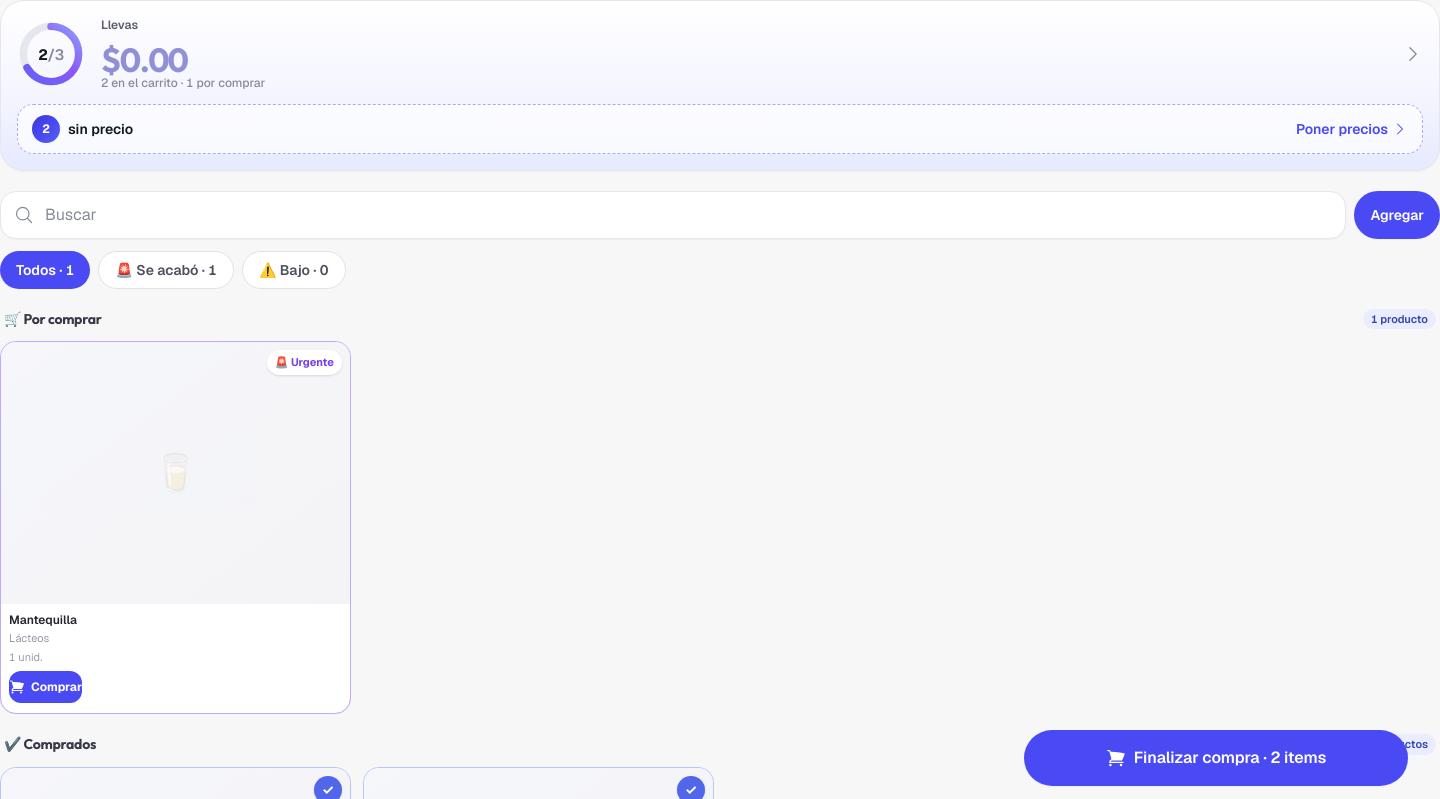
Test: SupermarketView · lo que no estaba en el súper › «no estaba en el súper» lo aparta: al pie, no perdido
The width and height of the screenshot is (1440, 799).
Click the text "Mantequilla" at (46, 620), box [9,612,82,628]
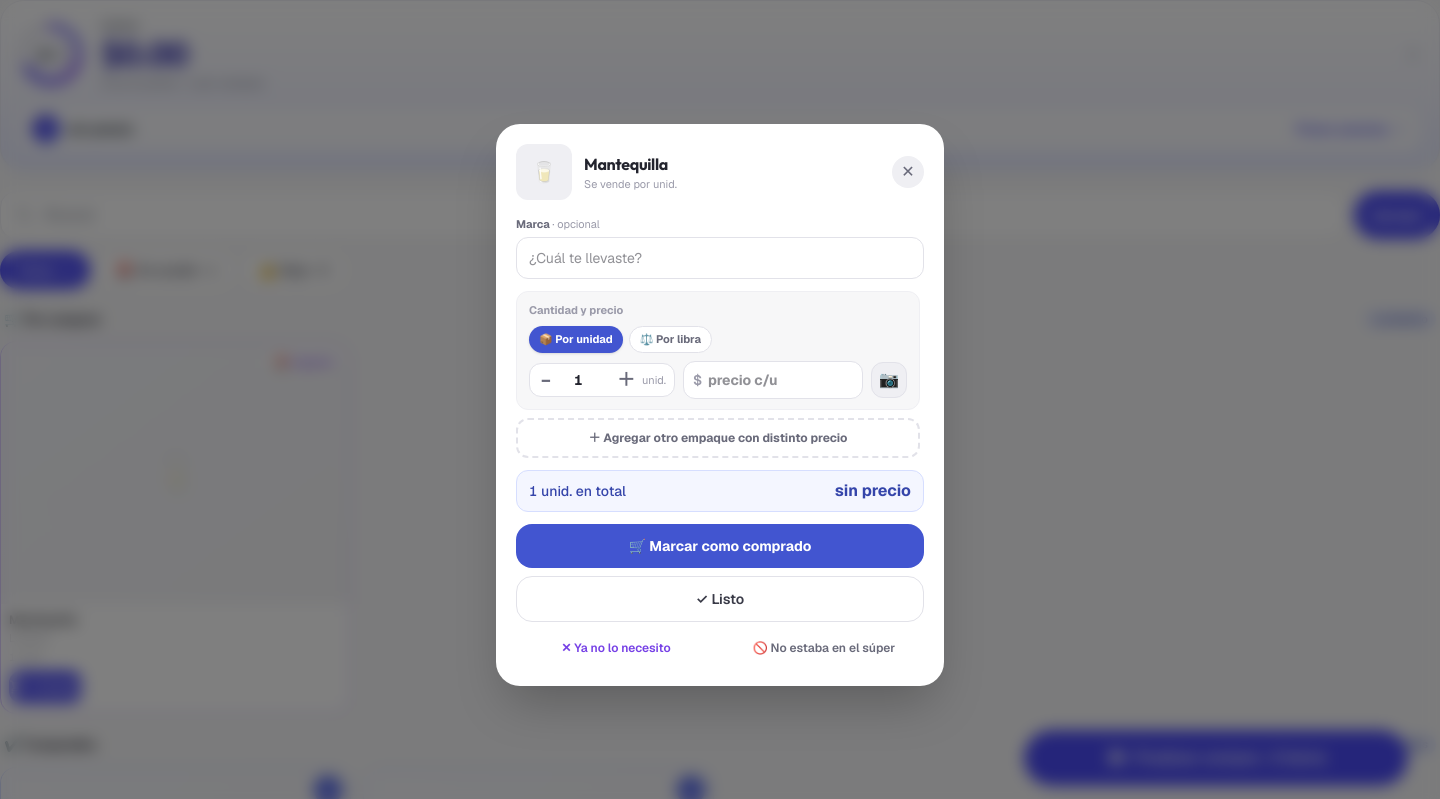
Click the button "🚫 No estaba en el súper" at (824, 648), box [724,630,924,666]
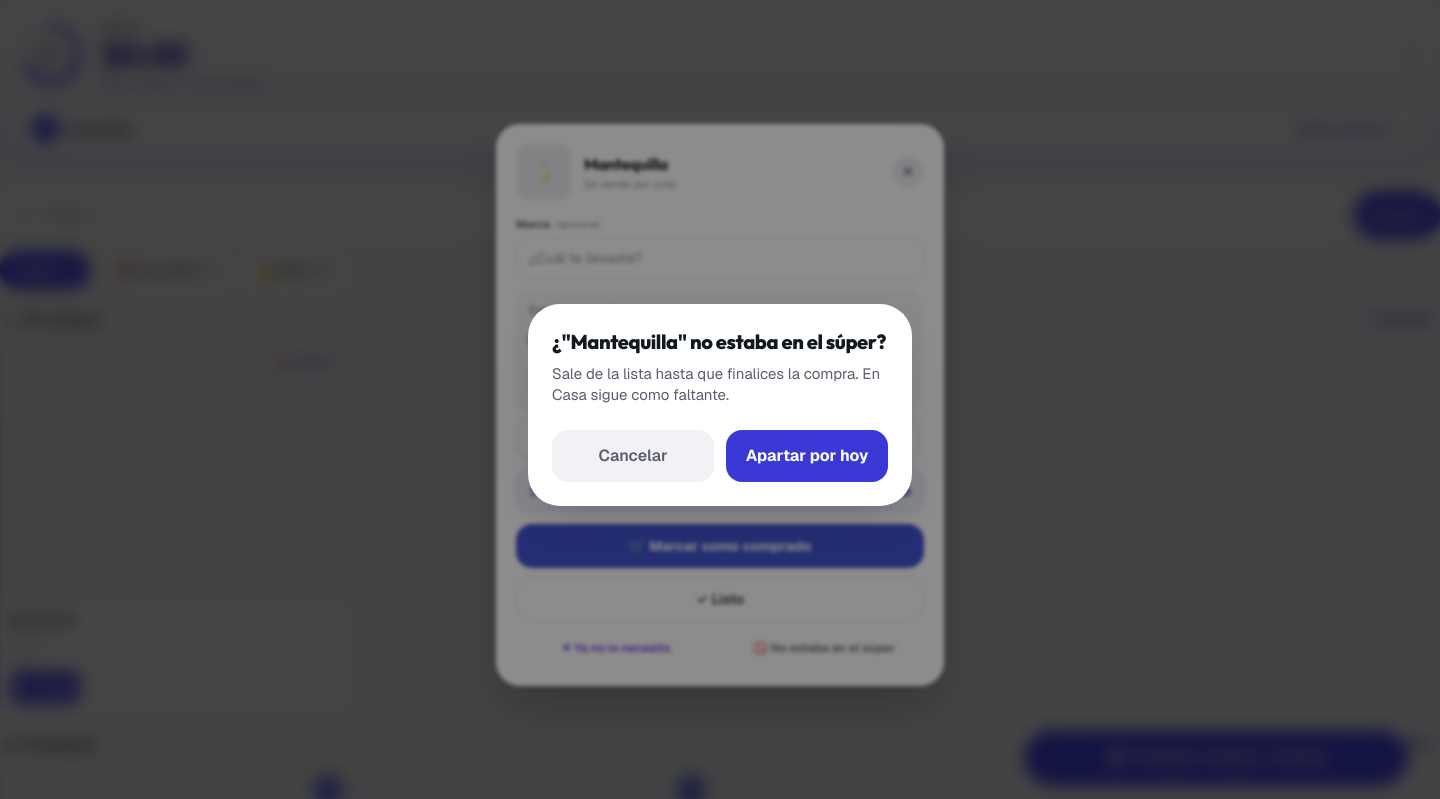
Click the button "Apartar por hoy" at (807, 456), box [726,430,888,482]
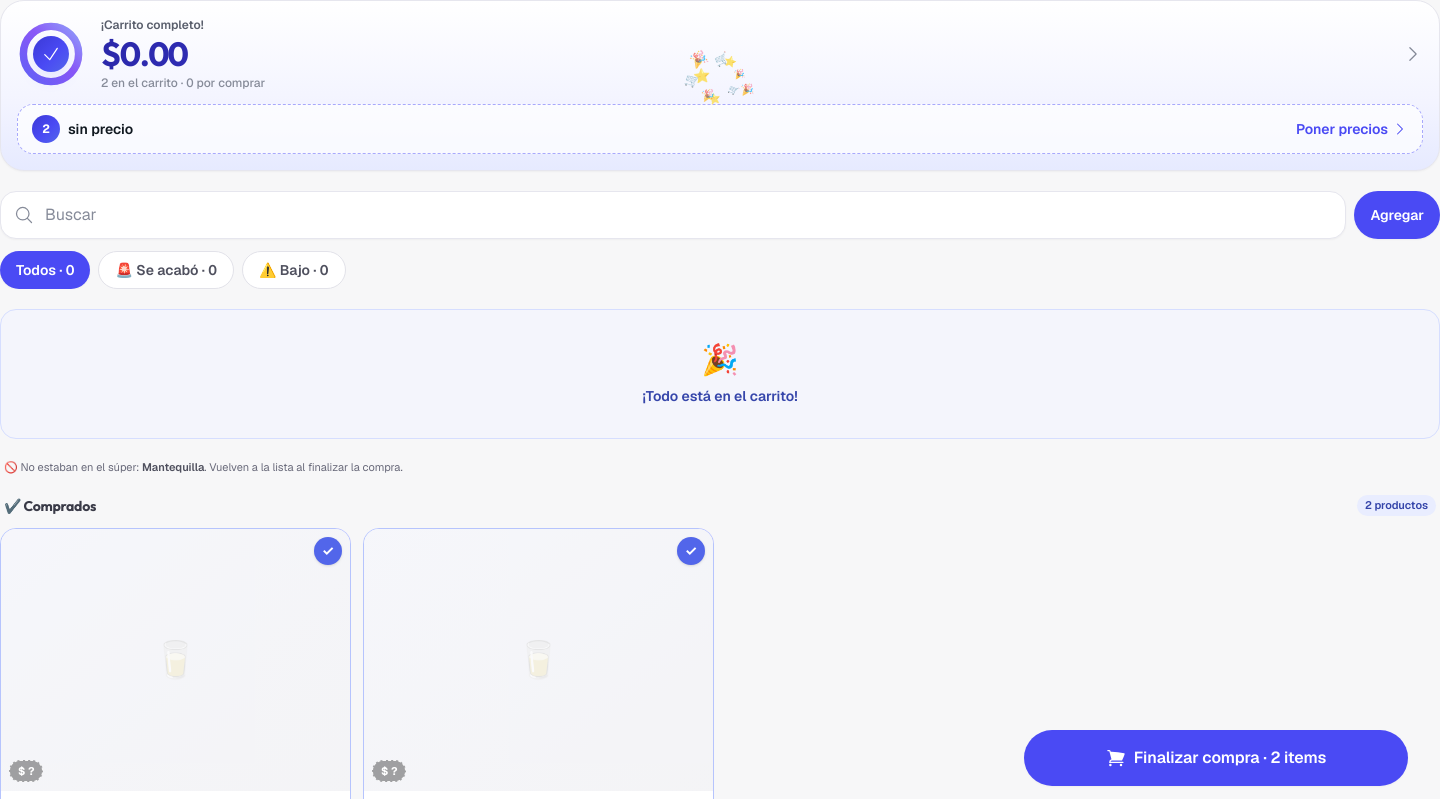
Result: the text "No estaban en el súper" shows "Mantequilla" at [142,460,204,474]
